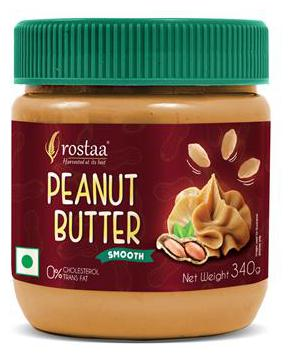JAR: (5, 14, 275, 343)
